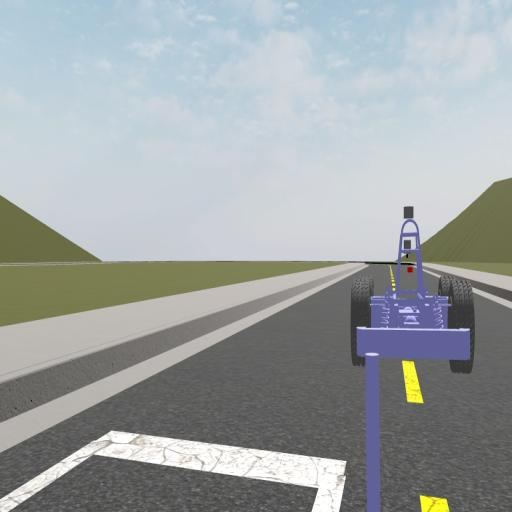ERP-42: (350, 205, 476, 373)
